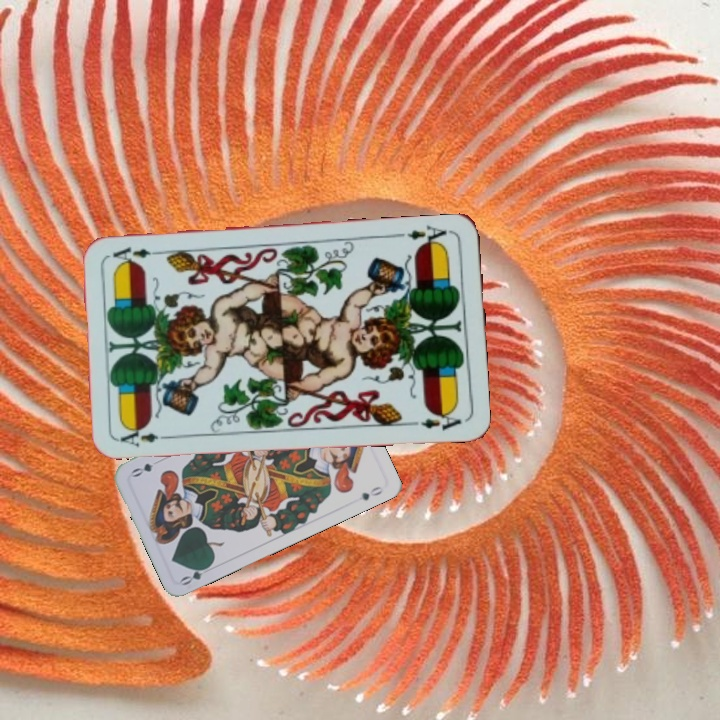EA: (395, 222, 455, 250), (116, 423, 175, 449)
GO: (177, 560, 216, 588)
